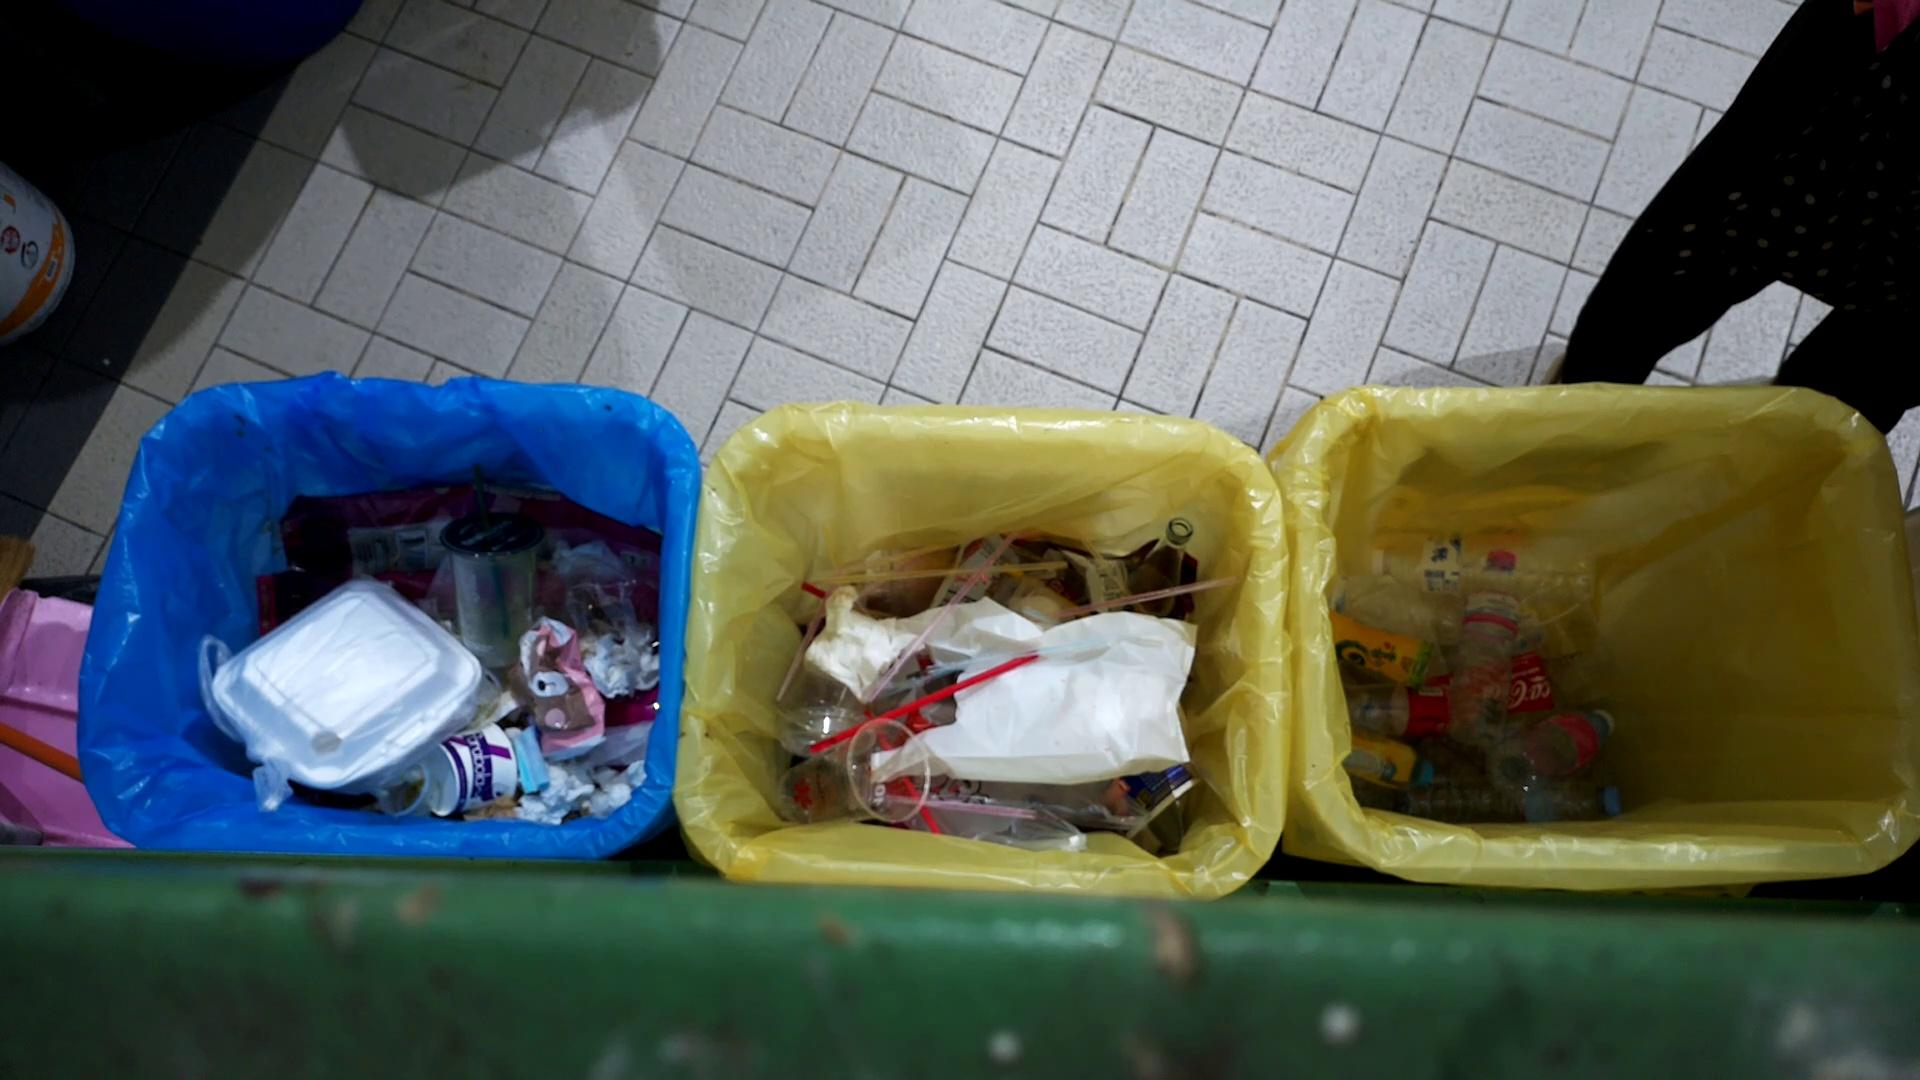filled plastic bag: (188, 564, 486, 813)
food container: (411, 709, 519, 815), (372, 757, 436, 821)
plastic bag: (855, 596, 1196, 789)
plastic bottle: (1368, 526, 1606, 613), (1441, 543, 1525, 752), (1482, 703, 1620, 801), (1328, 598, 1441, 701), (1446, 767, 1640, 821), (1339, 725, 1433, 792)
plastic cup: (772, 713, 943, 835), (438, 505, 547, 667), (1506, 578, 1632, 713), (766, 704, 879, 762)
snack packaging: (507, 612, 616, 766)
straw: (863, 528, 1023, 705), (807, 651, 1038, 756), (920, 629, 1135, 684), (1035, 574, 1240, 625), (1066, 515, 1151, 619), (465, 458, 512, 644), (775, 586, 839, 706), (819, 559, 1068, 587), (875, 795, 1042, 822)
tissue paper: (802, 587, 917, 702), (563, 527, 636, 581), (588, 626, 638, 699), (529, 755, 592, 812), (511, 721, 553, 795), (582, 765, 639, 818), (514, 793, 569, 824), (638, 627, 662, 697)
